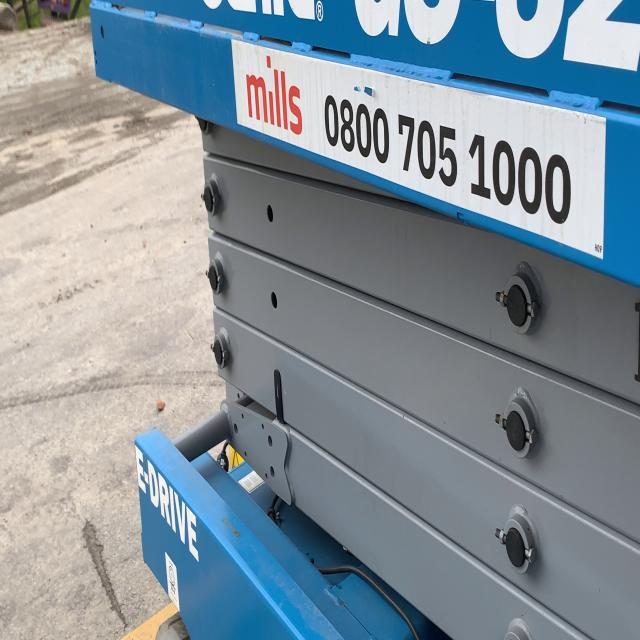Adesivo Longo: (230, 35, 609, 263)
